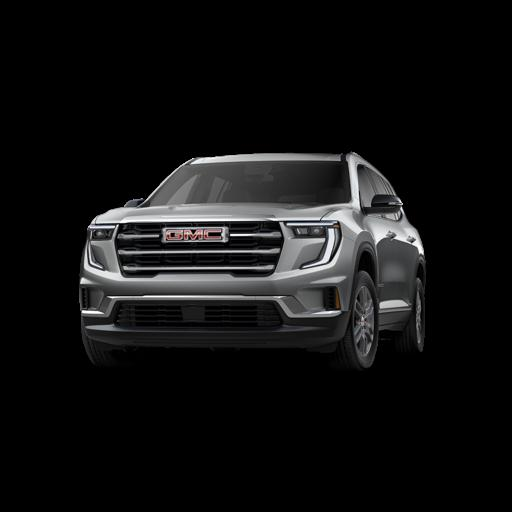suv: (80, 153, 425, 368)
